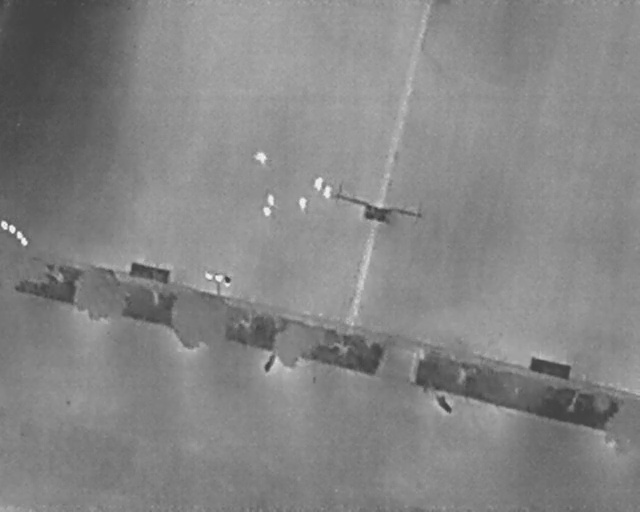Person: (299, 196, 308, 212), (314, 175, 323, 191), (256, 150, 267, 163), (323, 184, 332, 199), (266, 192, 275, 206), (262, 205, 271, 216)
